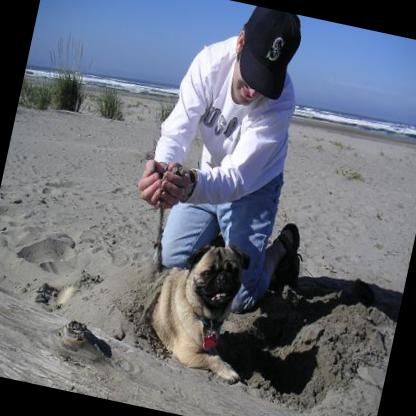pug: (138, 229, 264, 382)
